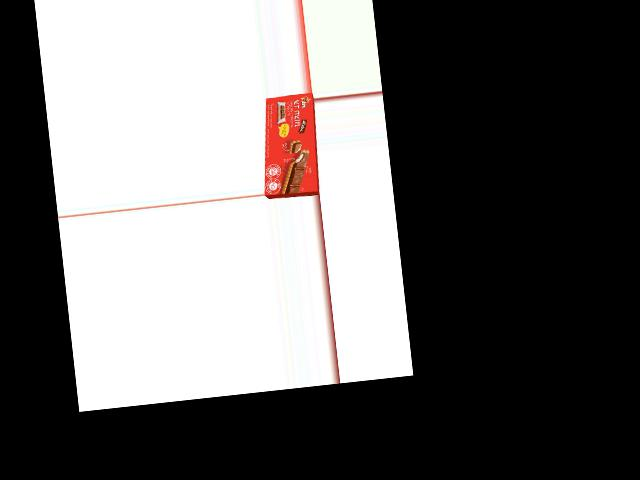chocolate: (260, 92, 319, 199)
